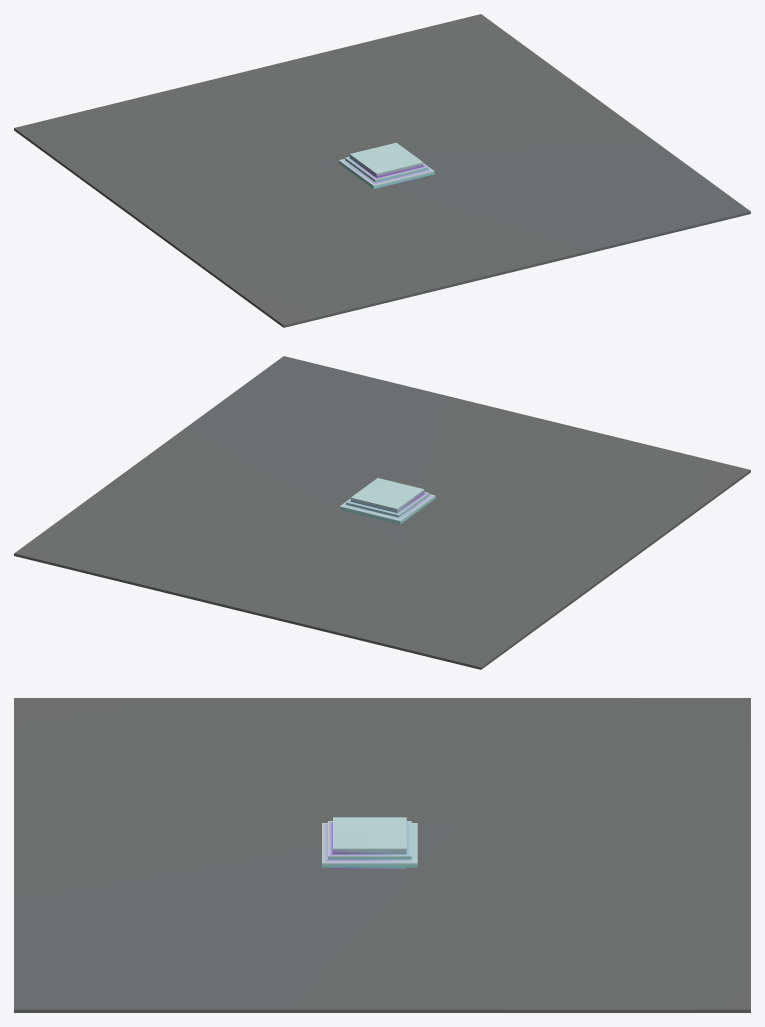
3 renders of one model, top to bottom at view 1: azimuth 30°, elevation 25°; view 2: azimuth 150°, elevation 25°; view 3: azimuth 270°, elevation 25°, orthographic. The views are drawn at different scales.
Visible parts, largest first — view 1: sheet, square_body; view 2: sheet, square_body; view 3: sheet, square_body.
Boxes of the visible parts, <box> form: sheet: <box>14,14,750,327</box>; square_body: <box>338,142,434,188</box>; sheet: <box>14,356,750,669</box>; square_body: <box>339,478,435,524</box>; sheet: <box>14,698,750,1012</box>; square_body: <box>322,817,417,868</box>.
Size of the model in its own units: 0.2999 by 0.0311 by 0.3.
